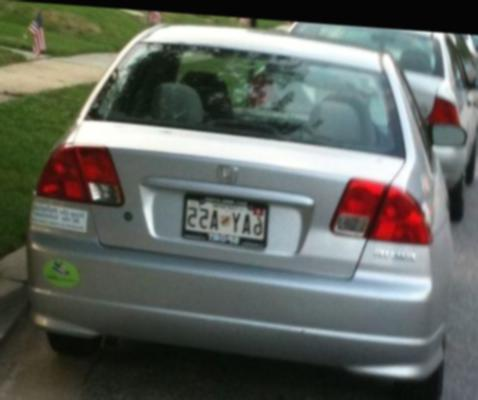License_Plate: (176, 190, 272, 251)
